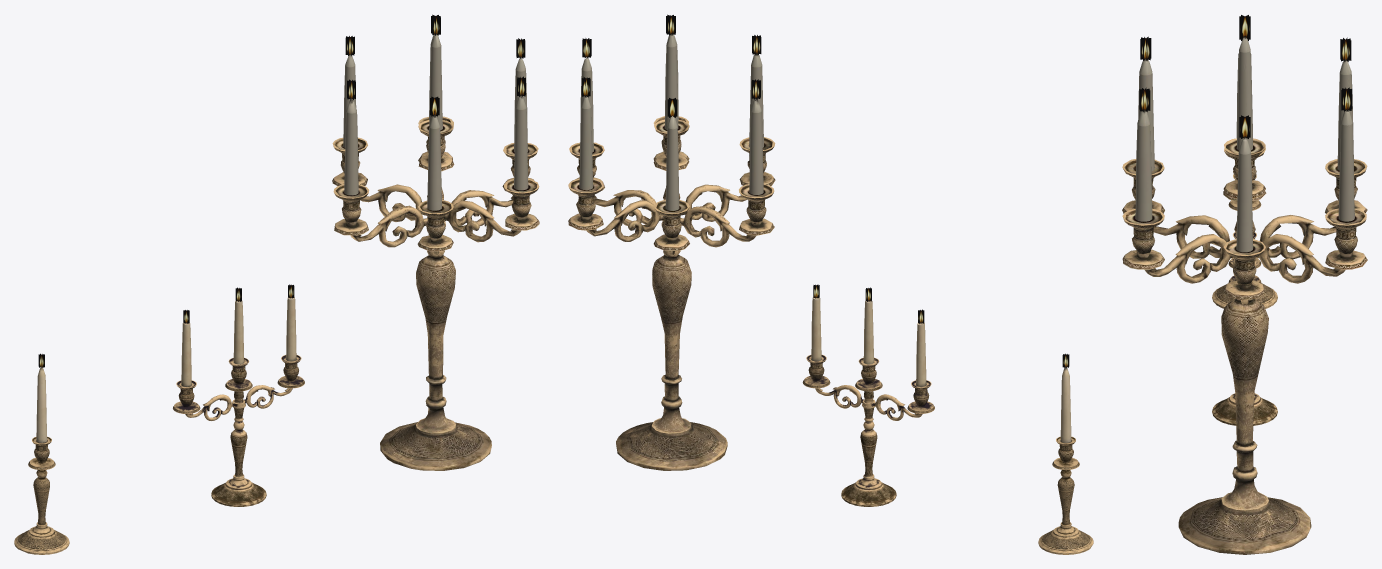
The model's file is candles.glb.
3 views of the same model, side by side, from view 1: azimuth 30°, elevation 25°; view 2: azimuth 150°, elevation 25°; view 3: azimuth 270°, elevation 25° (orthographic). The views are drawn at different scales.
Visible parts, largest first — view 1: brass_candleholder_03, brass_candleholder_02, brass_candleholder_01; view 2: brass_candleholder_03, brass_candleholder_02, brass_candleholder_01; view 3: brass_candleholder_03, brass_candleholder_02, brass_candleholder_01.
Boxes of the visible parts, x1,y1,x2,y2 form: brass_candleholder_03: (332,14,539,470); brass_candleholder_02: (173,284,304,506); brass_candleholder_01: (14,353,69,554); brass_candleholder_03: (568,14,775,470); brass_candleholder_02: (802,284,934,506); brass_candleholder_01: (1038,353,1093,554); brass_candleholder_03: (1122,15,1367,554); brass_candleholder_02: (1212,232,1277,425); brass_candleholder_01: (1212,174,1277,308).
Bounding box in the file's own units: 1.05 × 0.8353 × 0.3644.
5 materials, 5 textured.
